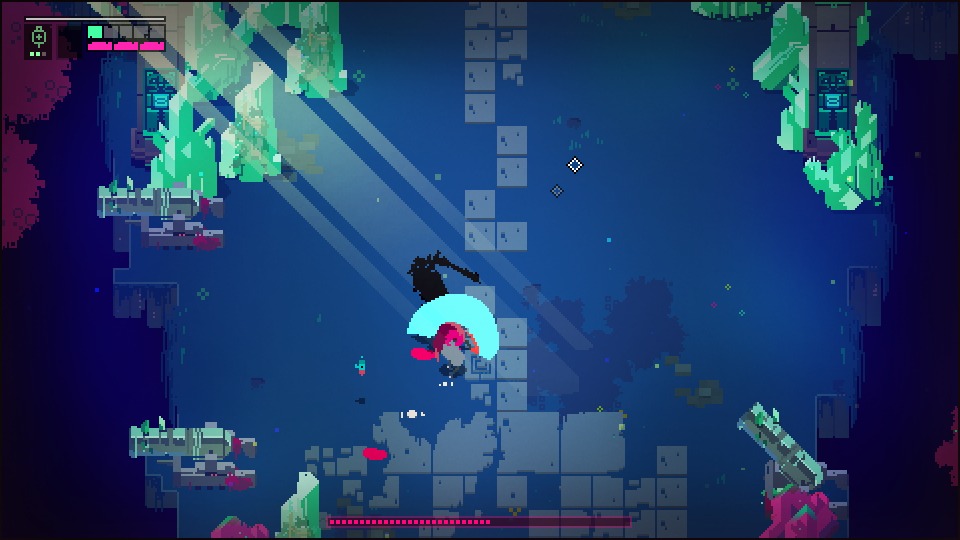player: (409, 293, 496, 375)
